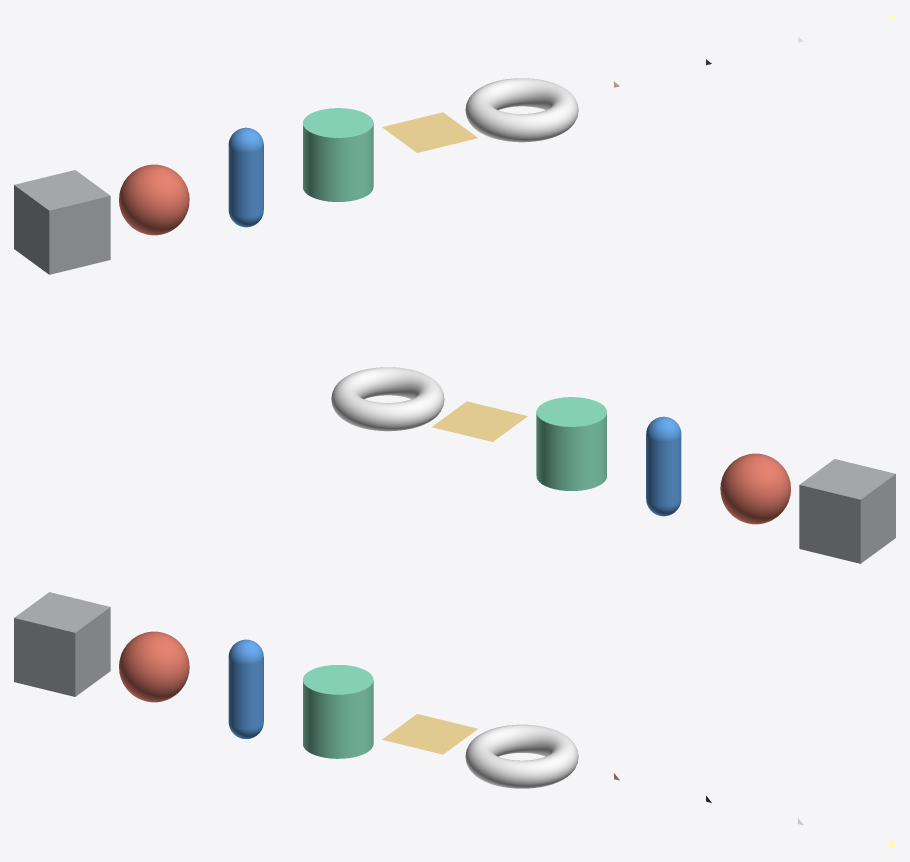
The model's file is primitives.glb.
3 views of the same model, one above another, from view 1: azimuth 30°, elevation 25°; view 2: azimuth 150°, elevation 25°; view 3: azimuth 330°, elevation 25° (orthographic).
Parts seen in each view (by area): view 1: Cube, Cylinder, Torus, Sphere, Capsule, Plane; view 2: Cube, Cylinder, Torus, Sphere, Capsule, Plane; view 3: Cube, Cylinder, Torus, Sphere, Capsule, Plane.
Boxes of the visible parts, x1=… form: Cube: x1=14, y1=170, x2=110, y2=274; Cylinder: x1=303, y1=108, x2=373, y2=201; Torus: x1=465, y1=78, x2=578, y2=142; Sphere: x1=119, y1=164, x2=189, y2=235; Capsule: x1=228, y1=127, x2=263, y2=227; Plane: x1=382, y1=112, x2=477, y2=152; Cube: x1=799, y1=459, x2=895, y2=563; Cylinder: x1=536, y1=397, x2=606, y2=490; Torus: x1=331, y1=367, x2=444, y2=431; Sphere: x1=720, y1=453, x2=790, y2=524; Capsule: x1=646, y1=416, x2=681, y2=516; Plane: x1=432, y1=401, x2=527, y2=441; Cube: x1=14, y1=592, x2=110, y2=696; Cylinder: x1=303, y1=665, x2=373, y2=758; Torus: x1=465, y1=724, x2=578, y2=788; Sphere: x1=119, y1=631, x2=189, y2=702; Capsule: x1=228, y1=639, x2=263, y2=738; Plane: x1=382, y1=714, x2=477, y2=754.
Bounding box in the file's own units: 14.1 × 1.5 × 1.6.
